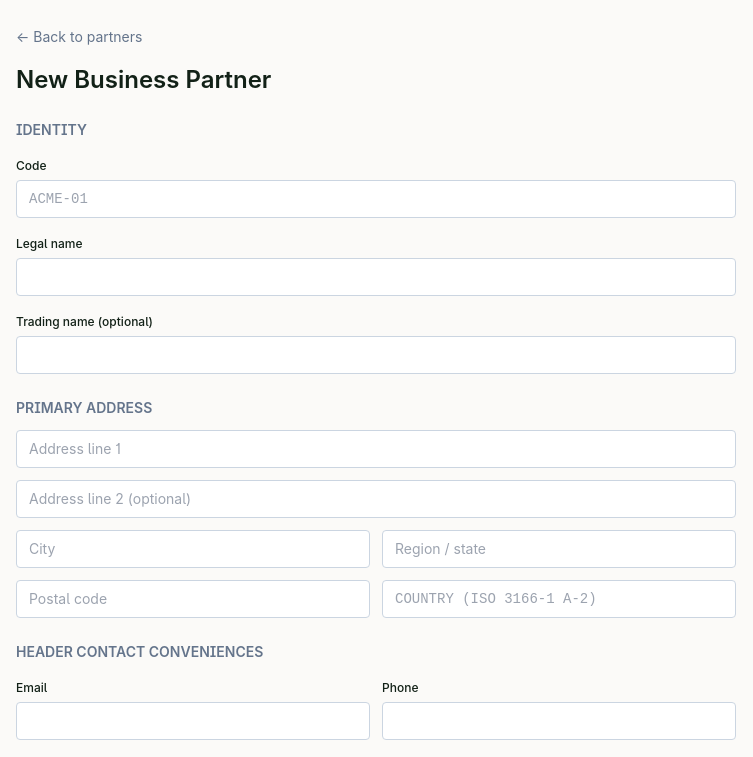
it: NewBusinessPartnerPage › surfaces the API error envelope on a 409 conflict
The width and height of the screenshot is (753, 757).
Type "DUP" into the field with test id "bp-create-code" at (376, 199), box [16,180,736,218]
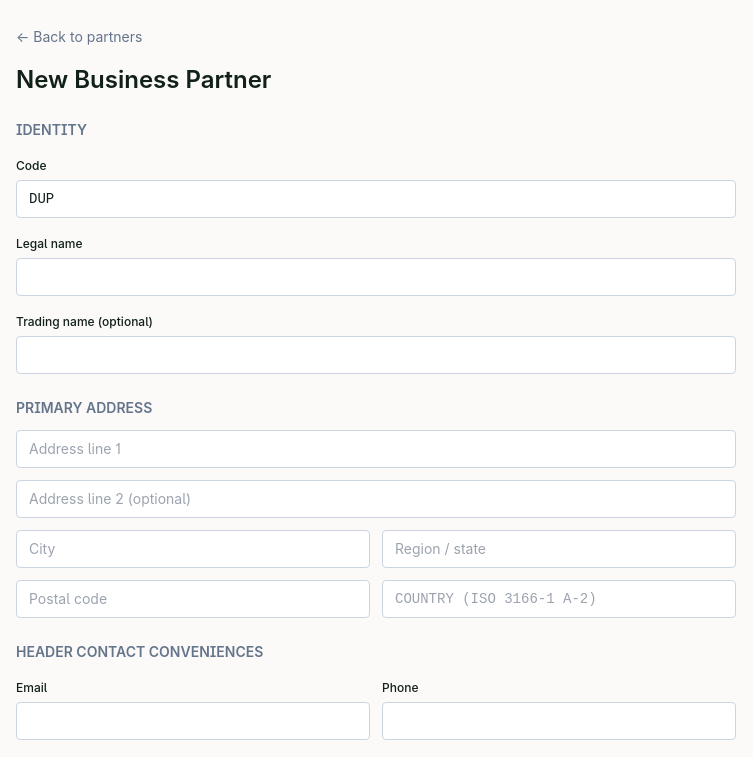
Type "X" into the field with test id "bp-create-legal-name" at (376, 277), box [16,258,736,296]
(page scrolled)
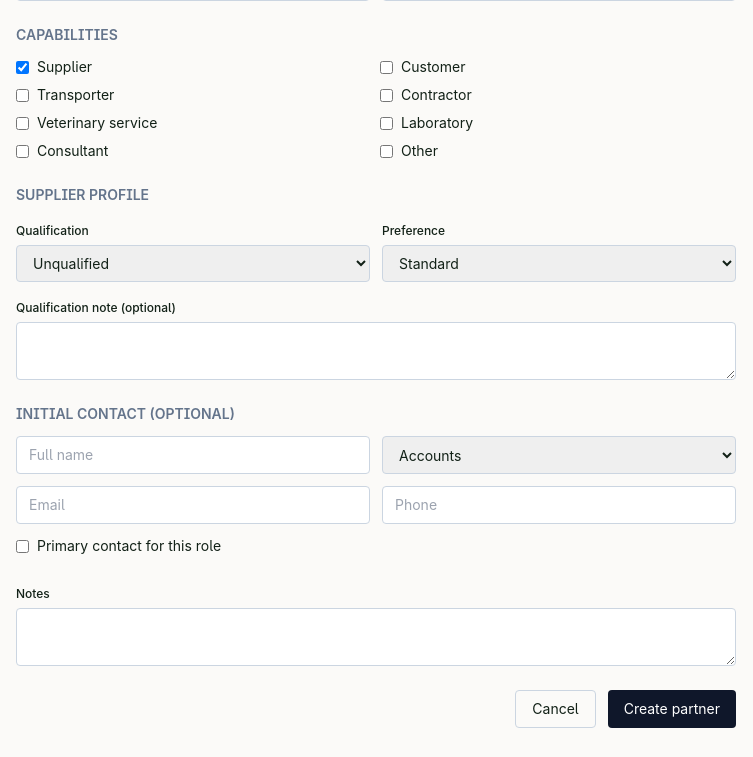
Click the button with test id "bp-create-submit" at (672, 709), box [608,690,736,728]
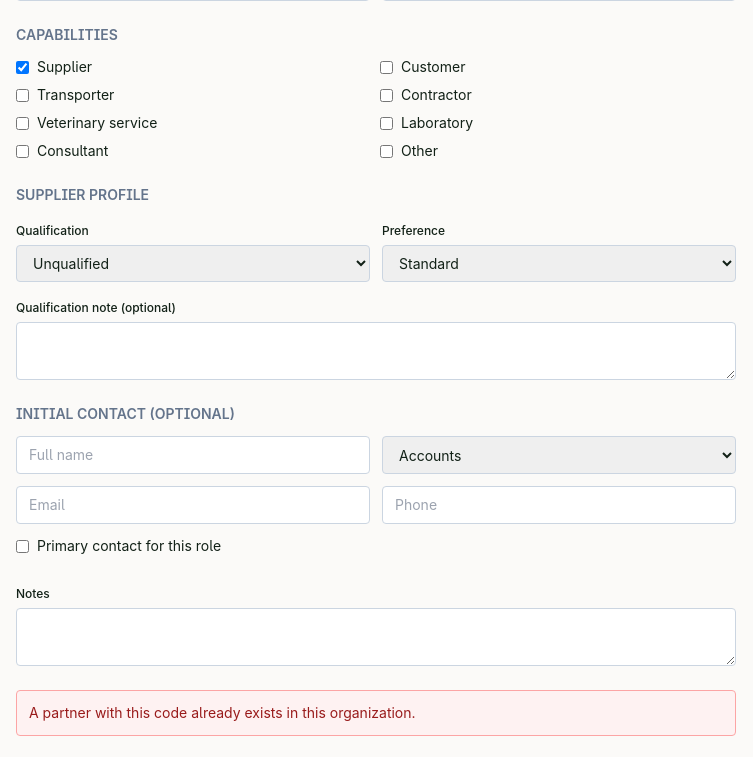
expect the text with test id "bp-create-error" shows "A partner with this code already exists": met, box [29,704,416,721]
